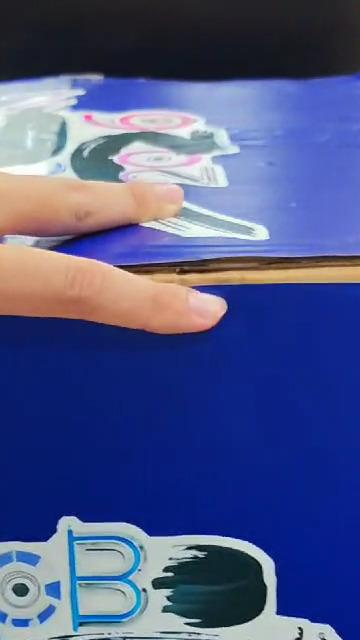B_R1: (0, 503, 359, 640)
